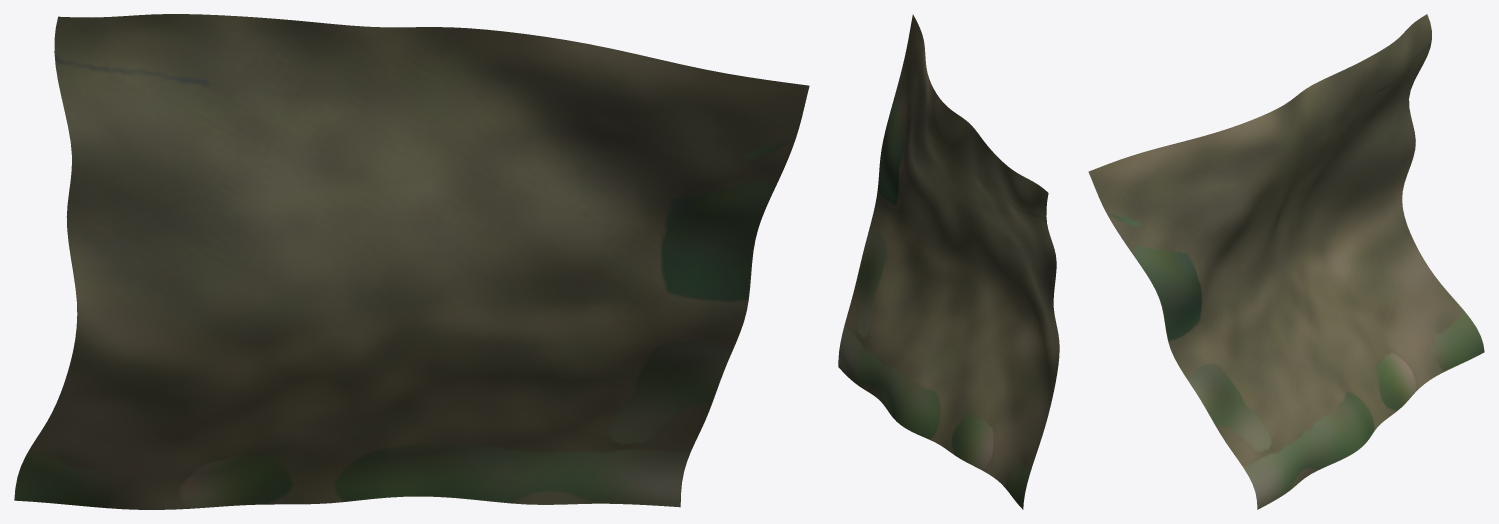
The model's file is ground_mid_09_00.obj.
3 renders of one model, left to right at view 1: azimuth 30°, elevation 25°; view 2: azimuth 150°, elevation 25°; view 3: azimuth 270°, elevation 25°, orthographic. The views are drawn at different scales.
Parts seen in each view (by area): view 1: ground_mid_09_00; view 2: ground_mid_09_00; view 3: ground_mid_09_00.
Part boxes in pixels (x1=…): ground_mid_09_00: x1=14, y1=14, x2=809, y2=509; ground_mid_09_00: x1=838, y1=14, x2=1059, y2=509; ground_mid_09_00: x1=1088, y1=14, x2=1484, y2=509.
Size of the model in its own units: 200 by 200 by 212.
Materials: 1 (1 with a texture image).
